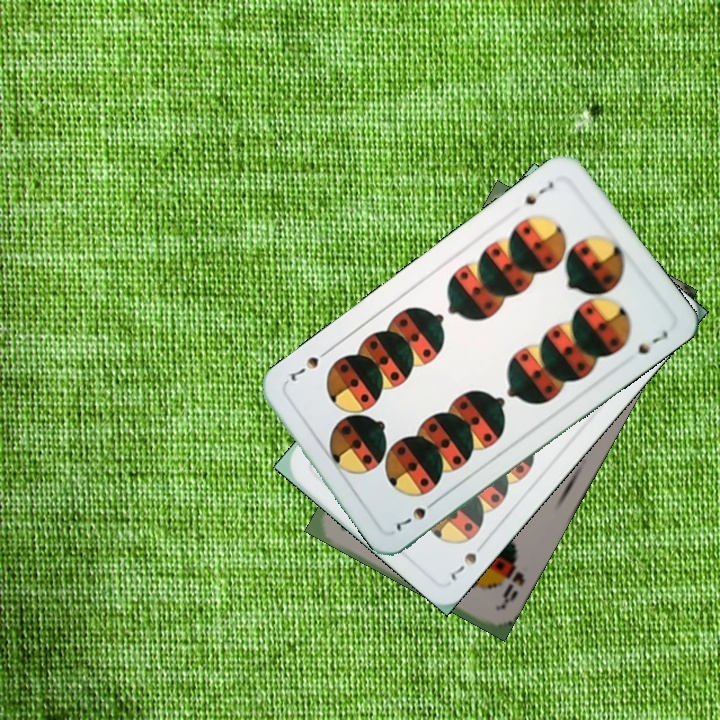S7: (446, 536, 490, 584), (392, 494, 441, 534), (521, 177, 557, 208)
SO: (492, 551, 528, 611)
